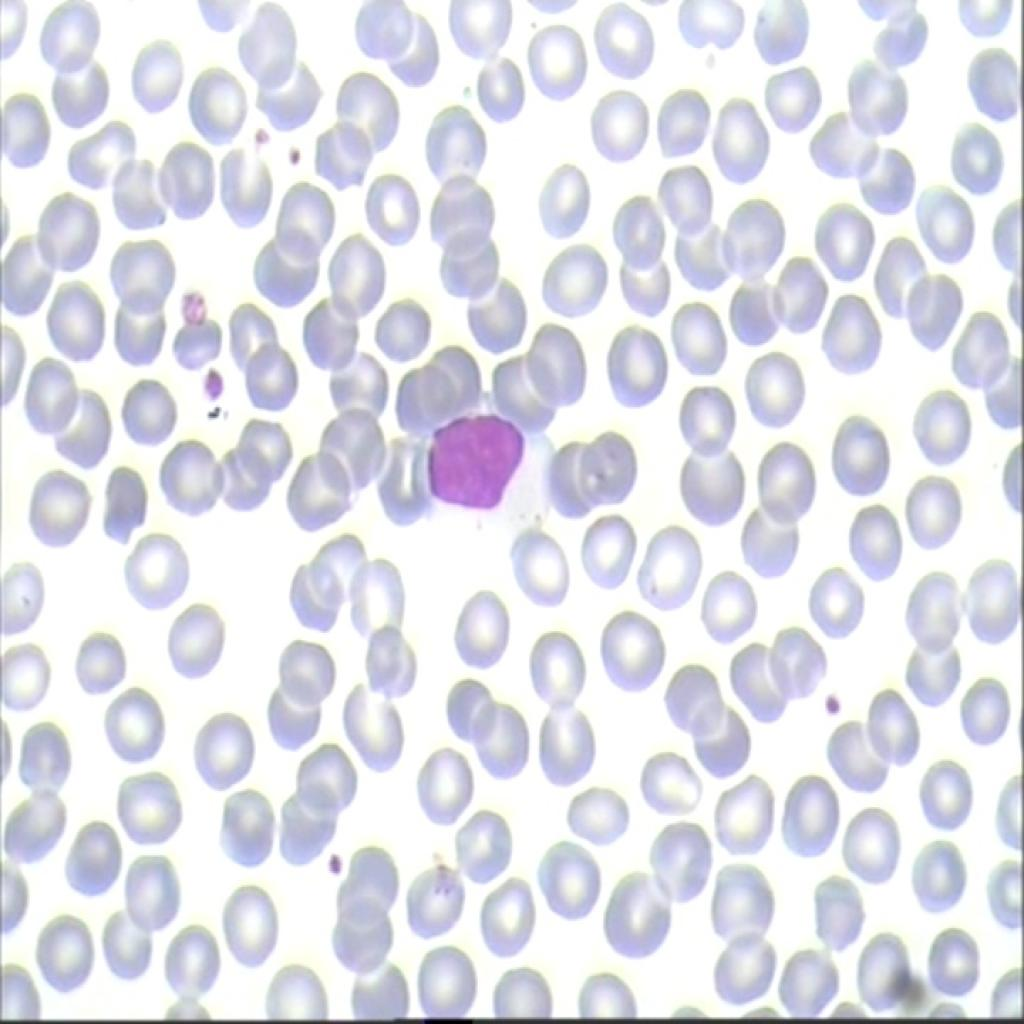Limfosit: (397, 398, 535, 542)
Platelet: (194, 363, 238, 414), (280, 137, 313, 179), (243, 107, 270, 153), (174, 290, 210, 324), (819, 684, 848, 720), (317, 842, 341, 884)
